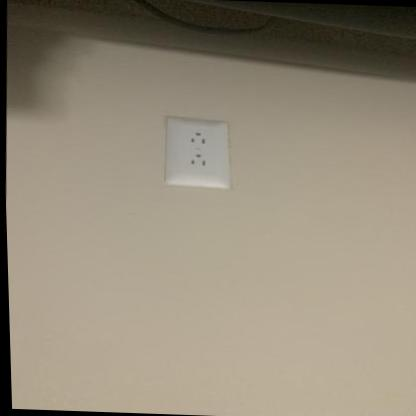OUTLET: (161, 114, 234, 189)
